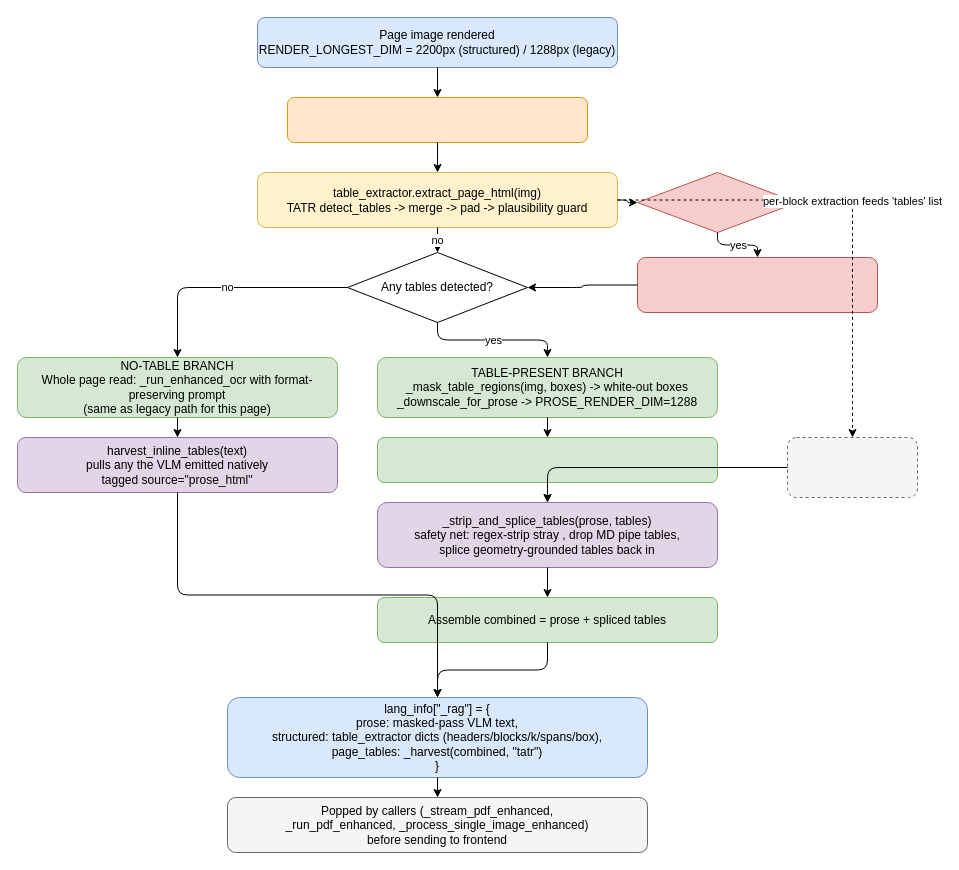
This 959x870 diagram has some shape labels left out. Here are the shapes that lost their labels. From the top down, the centre of each, then its label:
the point at 437,119: _process_page_structured(img, worker_id)
the point at 717,202: import failed? (_te unbound)
the point at 757,284: Print warning, tables=[] boxes=[] structured=[] falls through to no-table branch
the point at 547,459: _run_enhanced_ocr(prose_img, prose-only prompt)
the point at 852,467: Detailed per-block geometry pipeline (see diagram 3: table_extractor)
